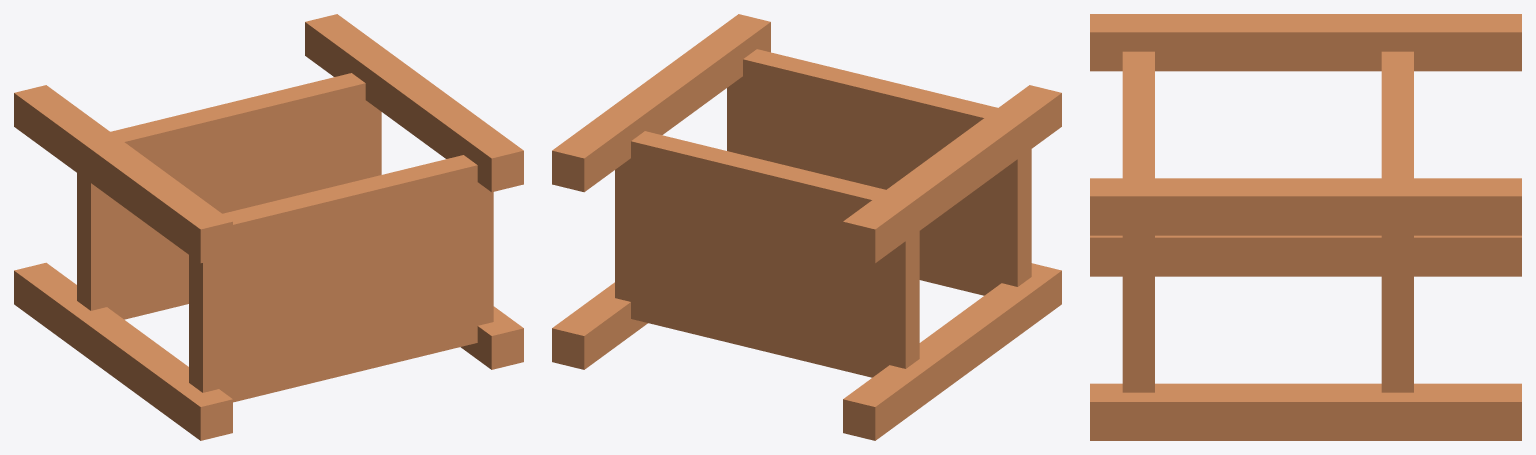
The model's file is bookcaseOpenLow.obj.
3 renders of one model, left to right at view 1: azimuth 30°, elevation 25°; view 2: azimuth 150°, elevation 25°; view 3: azimuth 270°, elevation 25°, orthographic. The views are drawn at different scales.
Visible parts, largest first — view 1: bookcaseOpenLow; view 2: bookcaseOpenLow; view 3: bookcaseOpenLow.
Part boxes in pixels (x1=…): bookcaseOpenLow: x1=14, y1=14, x2=523, y2=440; bookcaseOpenLow: x1=552, y1=14, x2=1061, y2=440; bookcaseOpenLow: x1=1090, y1=14, x2=1521, y2=440.
Bounding box in the file's own units: 0.8 × 0.5 × 0.8.
